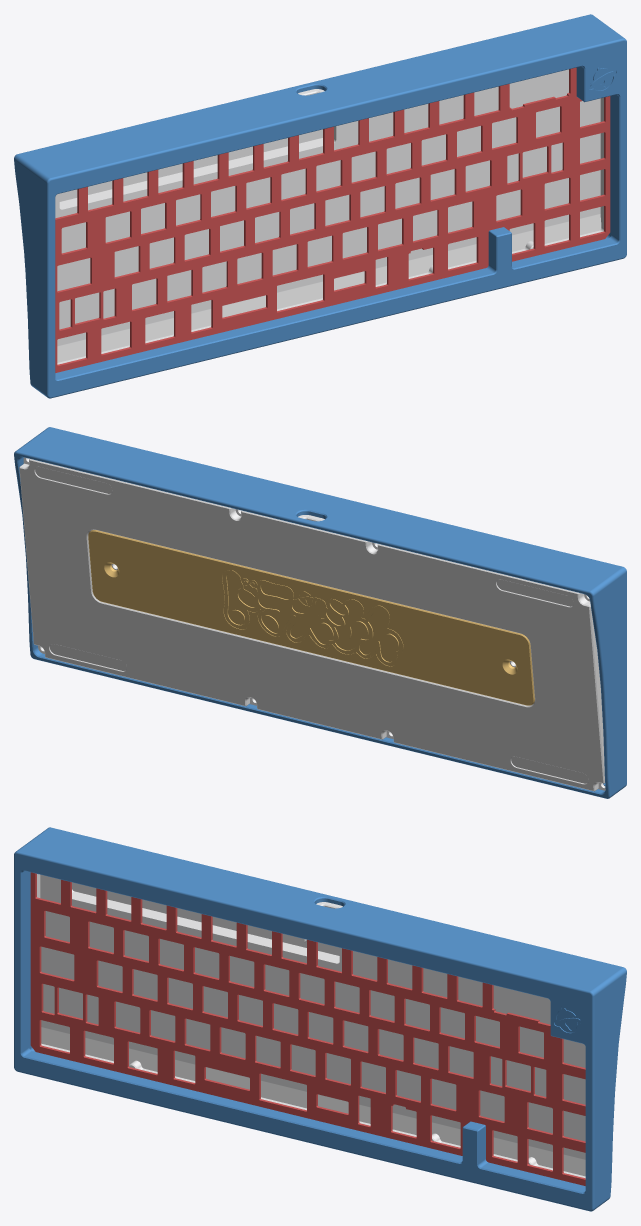
The model's file is doraemon-kim.fbx.
3 renders of one model, top to bottom at view 1: azimuth 30°, elevation 25°; view 2: azimuth 150°, elevation 25°; view 3: azimuth 330°, elevation 25°, orthographic.
Visible parts, largest first — view 1: Top, Plate, Bottom; view 2: Bottom, Weight, Top; view 3: Top, Plate, Bottom.
Part boxes in pixels (x1=…): Top: x1=14, y1=14, x2=626, y2=398; Plate: x1=55, y1=67, x2=610, y2=372; Bottom: x1=55, y1=69, x2=603, y2=364; Bottom: x1=19, y1=457, x2=605, y2=791; Weight: x1=88, y1=530, x2=534, y2=705; Top: x1=14, y1=427, x2=626, y2=798; Top: x1=14, y1=827, x2=626, y2=1211; Plate: x1=30, y1=872, x2=585, y2=1185; Bottom: x1=37, y1=874, x2=585, y2=1178.
Size of the model in its own units: 315 by 114 by 32.4.
